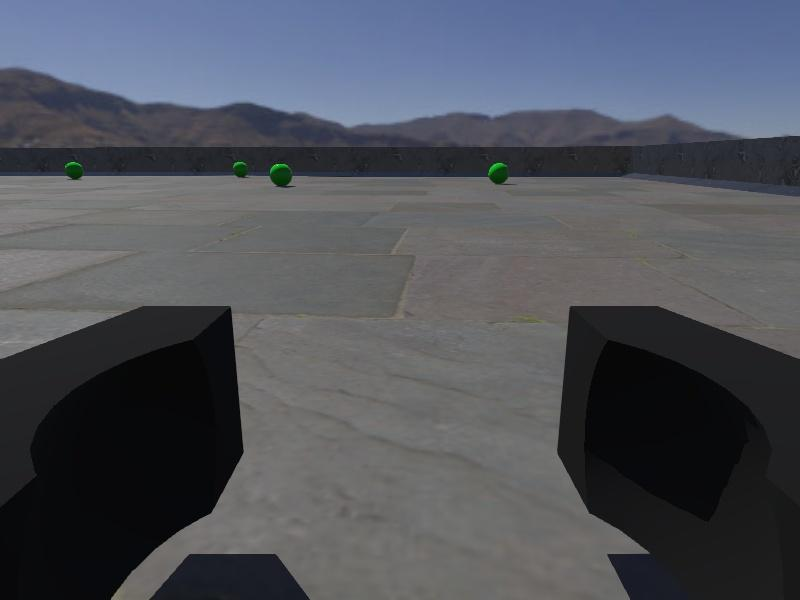green ball: (268, 162, 293, 188), (486, 162, 511, 185), (63, 161, 85, 180), (232, 161, 249, 178)
